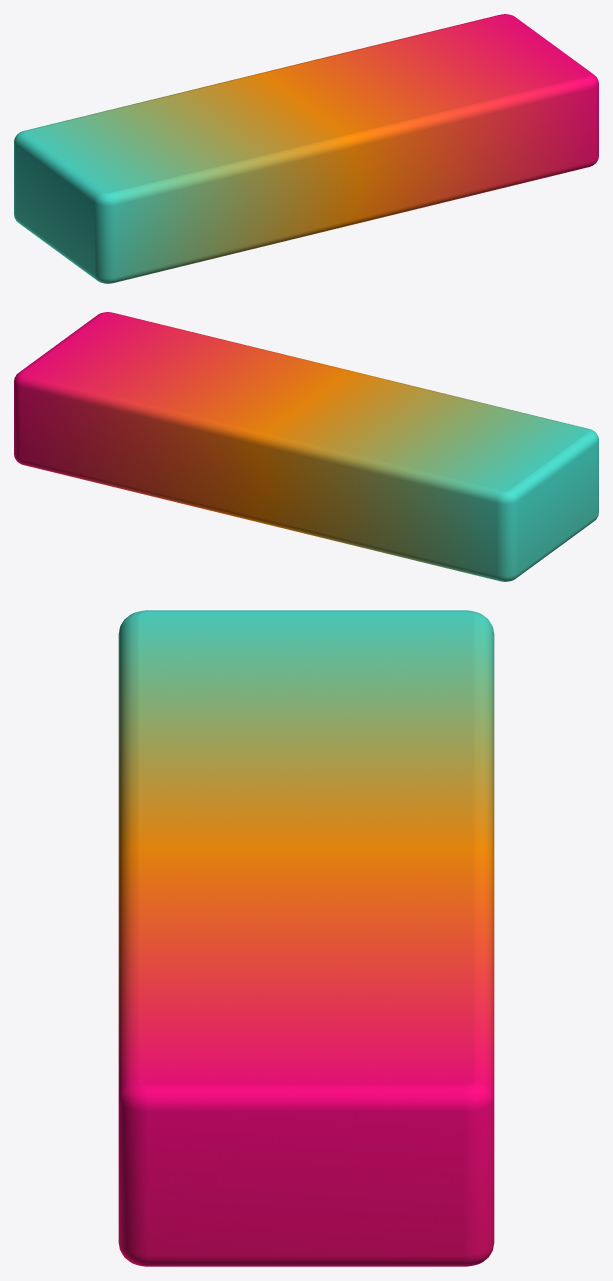
Rendered from Paddle-34.dae.
3 renders of one model, top to bottom at view 1: azimuth 30°, elevation 25°; view 2: azimuth 150°, elevation 25°; view 3: azimuth 270°, elevation 25°, orthographic. The views are drawn at different scales.
Parts seen in each view (by area): view 1: Paddle; view 2: Paddle; view 3: Paddle.
Part boxes in pixels (left/top/right/bottom): Paddle: left=14, top=14, right=598, bottom=283; Paddle: left=14, top=312, right=598, bottom=581; Paddle: left=118, top=610, right=494, bottom=1266.
Size of the model in its own units: 0.2922 by 0.05 by 0.0947.
1 material, 1 textured.
